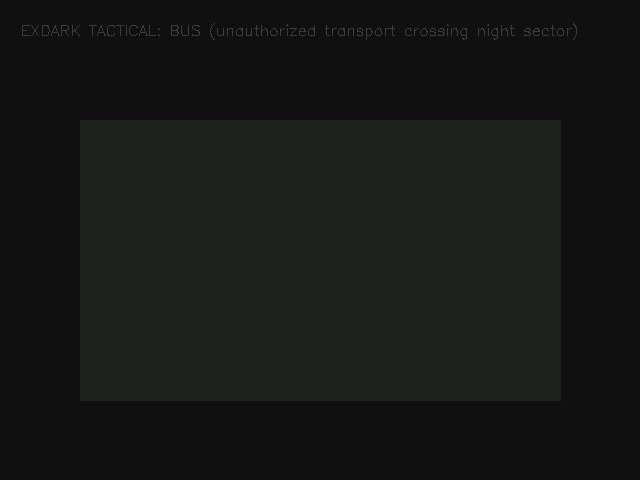Bus: (80, 120, 560, 400)
